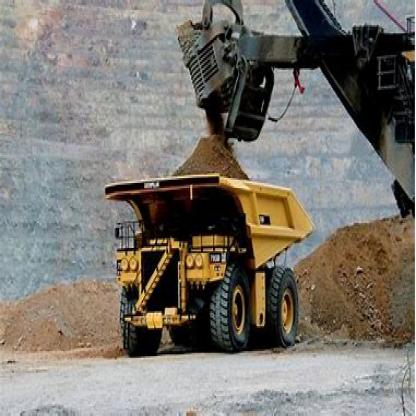dump_truck: (96, 150, 316, 366)
